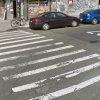Crosswalk: (3, 29, 74, 100)
